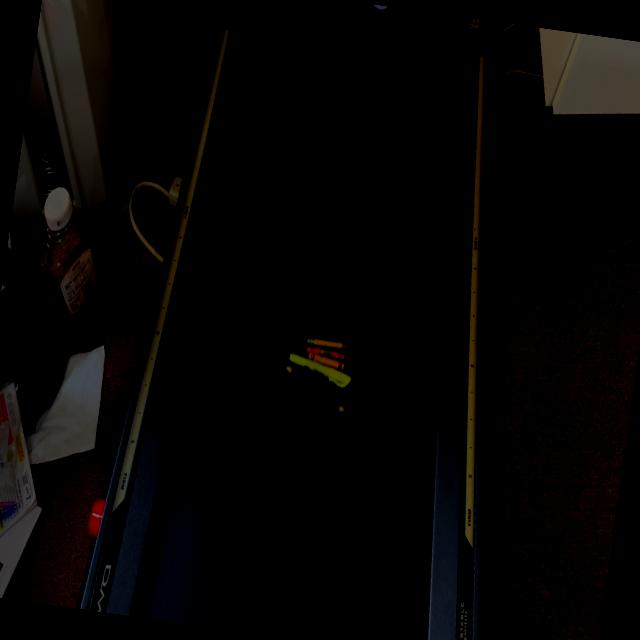Trash: (278, 331, 358, 416)
